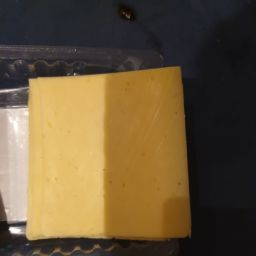Cheddar cheese: (17, 58, 205, 244)
